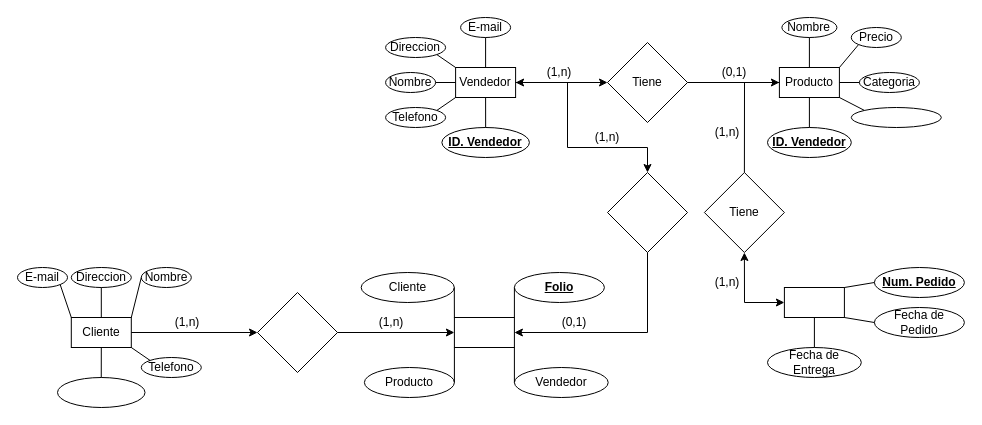
This 982x425 diagram has some shape labels left out. Each missing label, with the centre of its shape:
"Empieza" belongs at pixel 297 332.
"ID. Cliente" belongs at pixel 100 392.
"ID. Producto" belongs at pixel 895 117.
"Pedido" belongs at pixel 813 302.
"Realiza" belongs at pixel 647 212.
"Venta" belongs at pixel 483 332.
